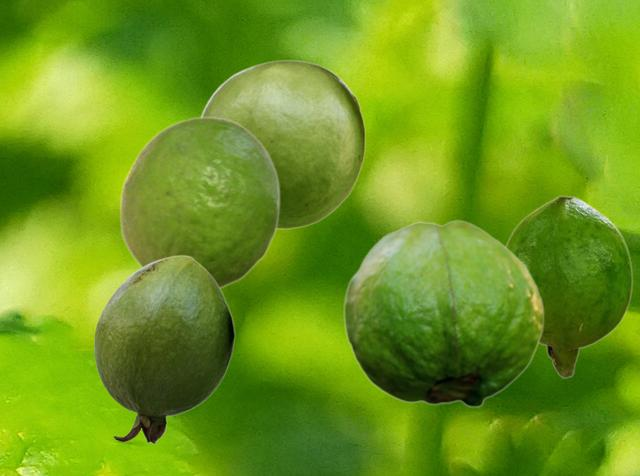guava: (343, 219, 543, 407), (119, 115, 280, 288), (201, 59, 365, 228), (94, 255, 234, 443), (505, 195, 632, 378)
